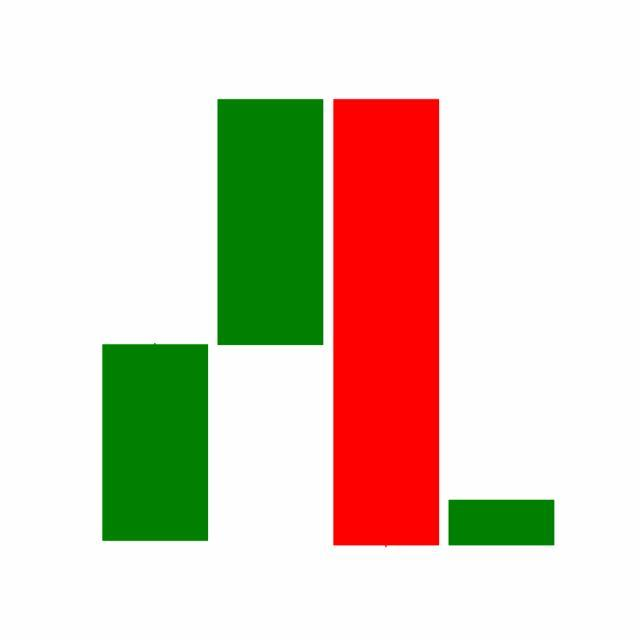Marubozu: (329, 95, 445, 553)
